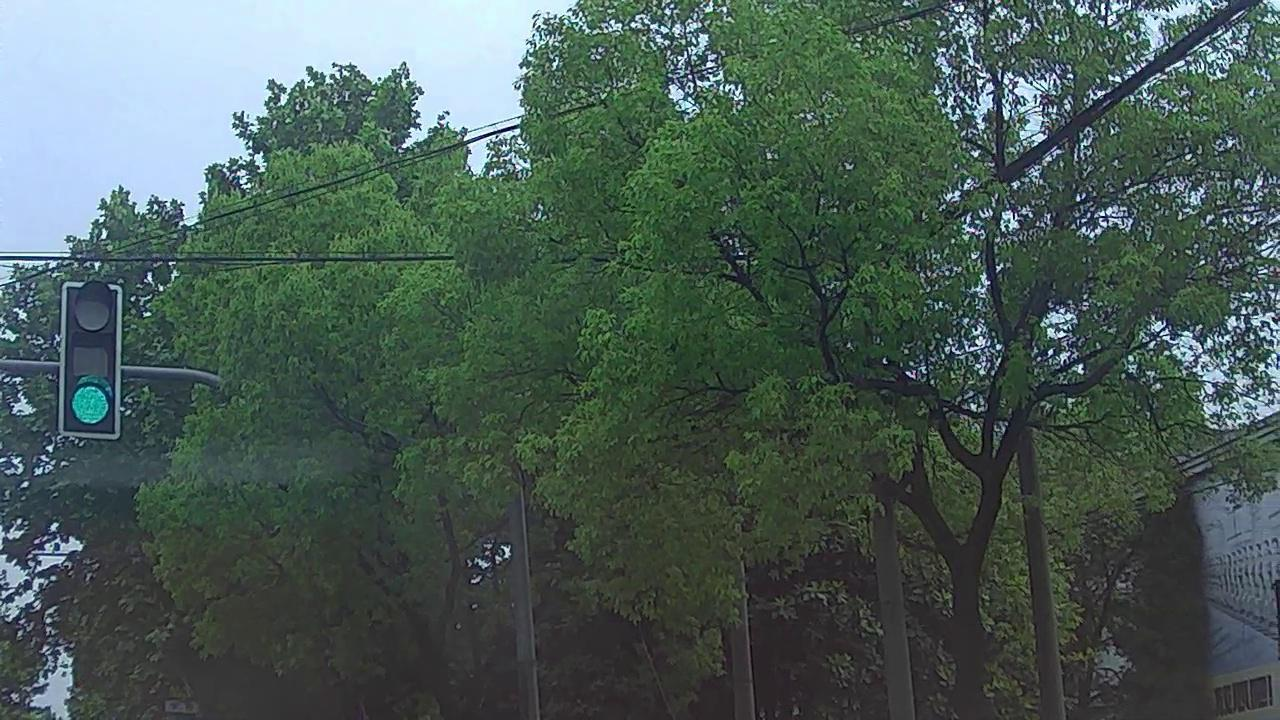traffic_light: (63, 281, 117, 438)
